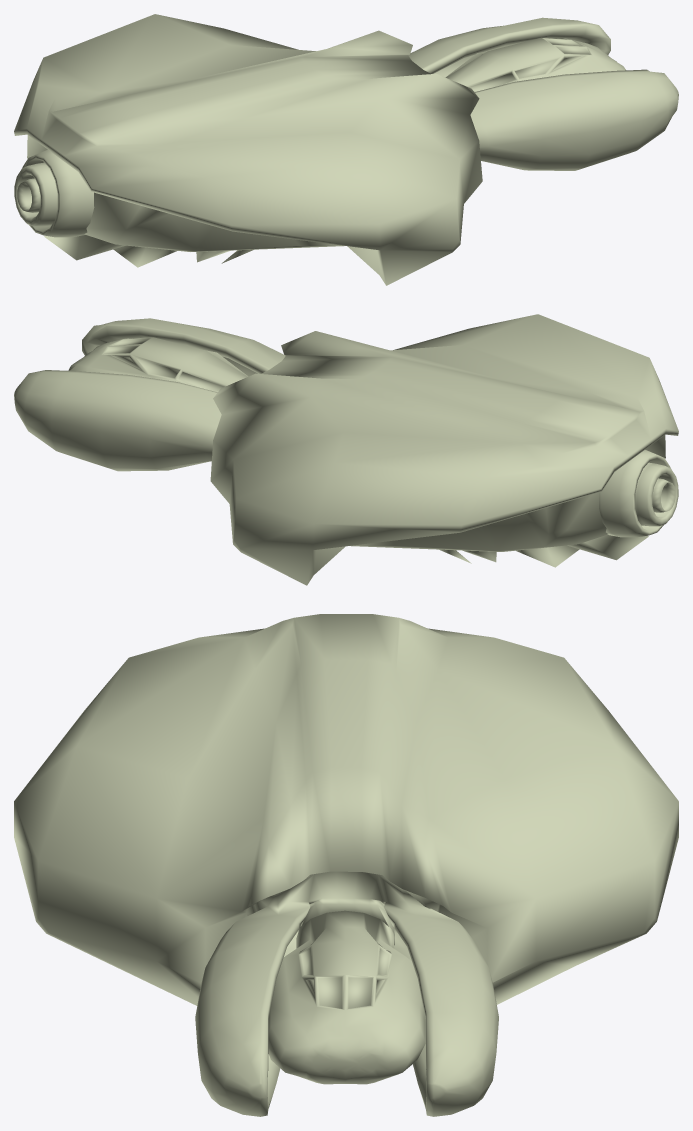
The model's file is Pentag.obj.
The picture shows the model from 3 angles, top to bottom: view 1: azimuth 30°, elevation 25°; view 2: azimuth 150°, elevation 25°; view 3: azimuth 270°, elevation 25°; orthographic projection. The views are drawn at different scales.
Parts seen in each view (by area): view 1: cylinder1, cylinder3; view 2: cylinder1, cylinder3; view 3: cylinder1.
Part boxes in pixels (x1,y1,x2,y2): cylinder1: (14,14,678,285); cylinder3: (14,150,94,237); cylinder1: (14,314,678,585); cylinder3: (599,450,678,537); cylinder1: (14,614,678,1116).
Bounding box in the file's own units: 15.93 × 3.81 × 11.18.
